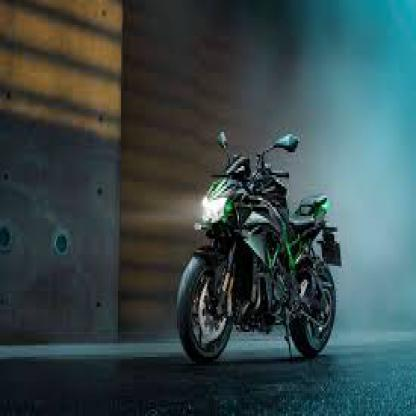Motorcycle: (166, 121, 344, 368)
